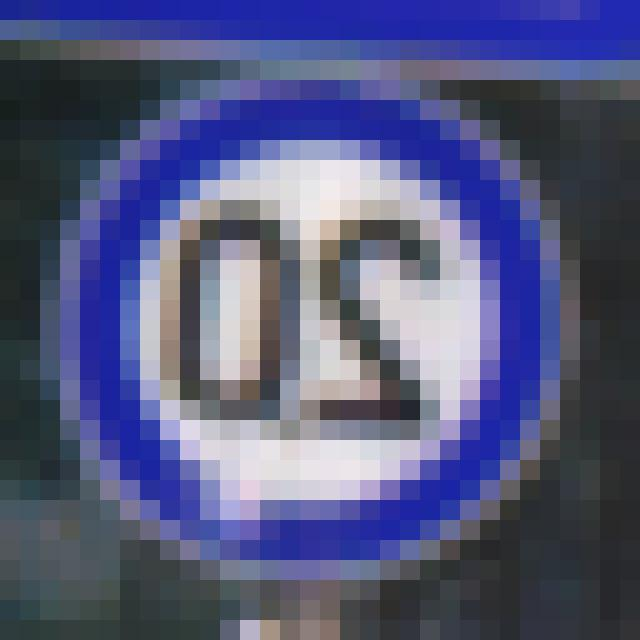SPEED LIMIT 20: (44, 79, 572, 576)
